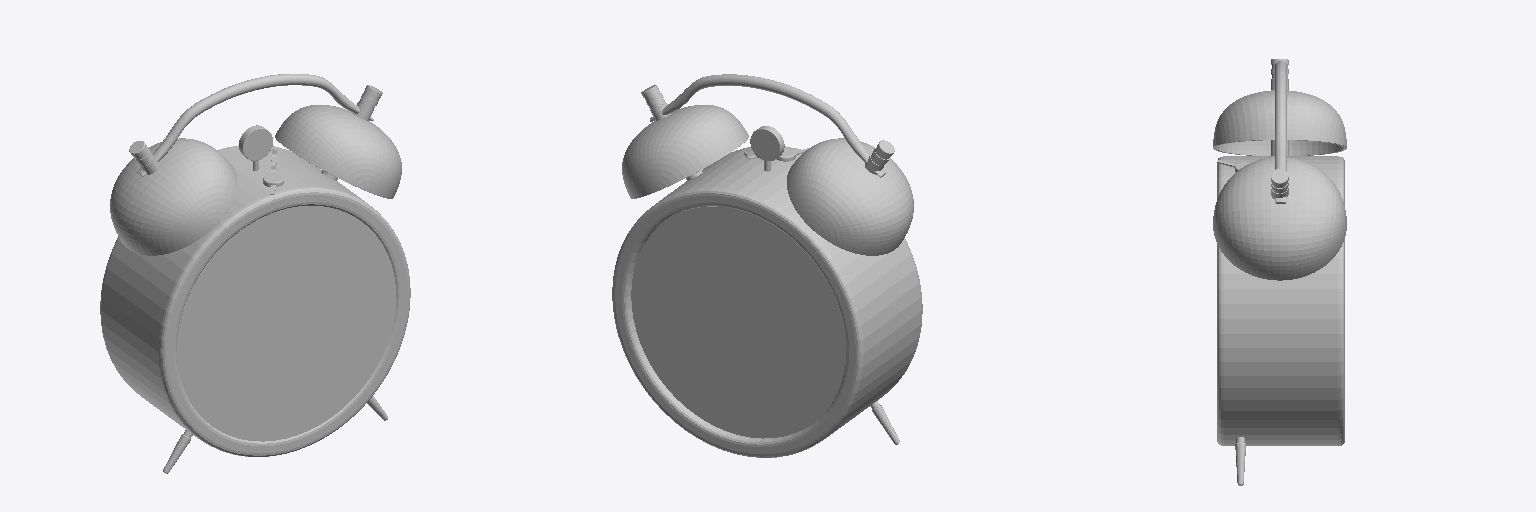
The model's file is Clock.obj.
3 renders of one model, left to right at view 1: azimuth 30°, elevation 25°; view 2: azimuth 150°, elevation 25°; view 3: azimuth 270°, elevation 25°, orthographic.
Parts seen in each view (by area): view 1: Object01 Mesh, Object02 Mesh; view 2: Object01 Mesh; view 3: Object01 Mesh.
Boxes of the visible parts, <box> form: Object01 Mesh: <box>100,74,410,473</box>; Object02 Mesh: <box>177,206,395,441</box>; Object01 Mesh: <box>612,74,922,457</box>; Object01 Mesh: <box>1213,59,1346,485</box>.
Bounding box in the file's own units: 178 × 220 × 75.53.